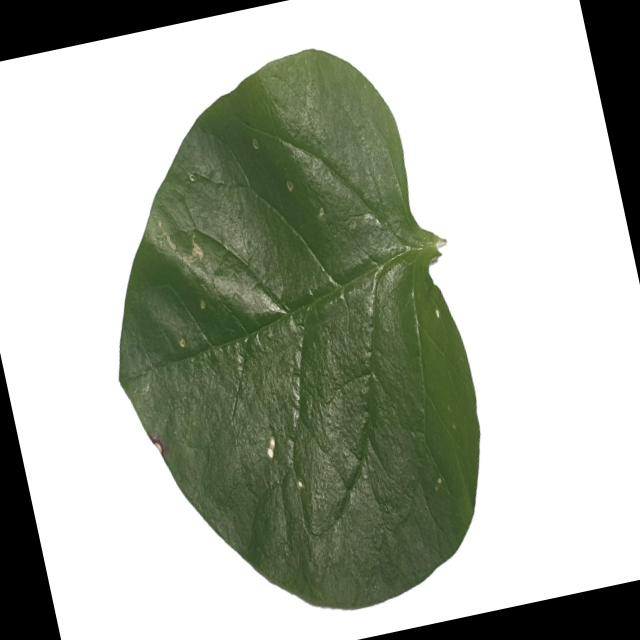Medicinal-Basale: (60, 25, 513, 640)
